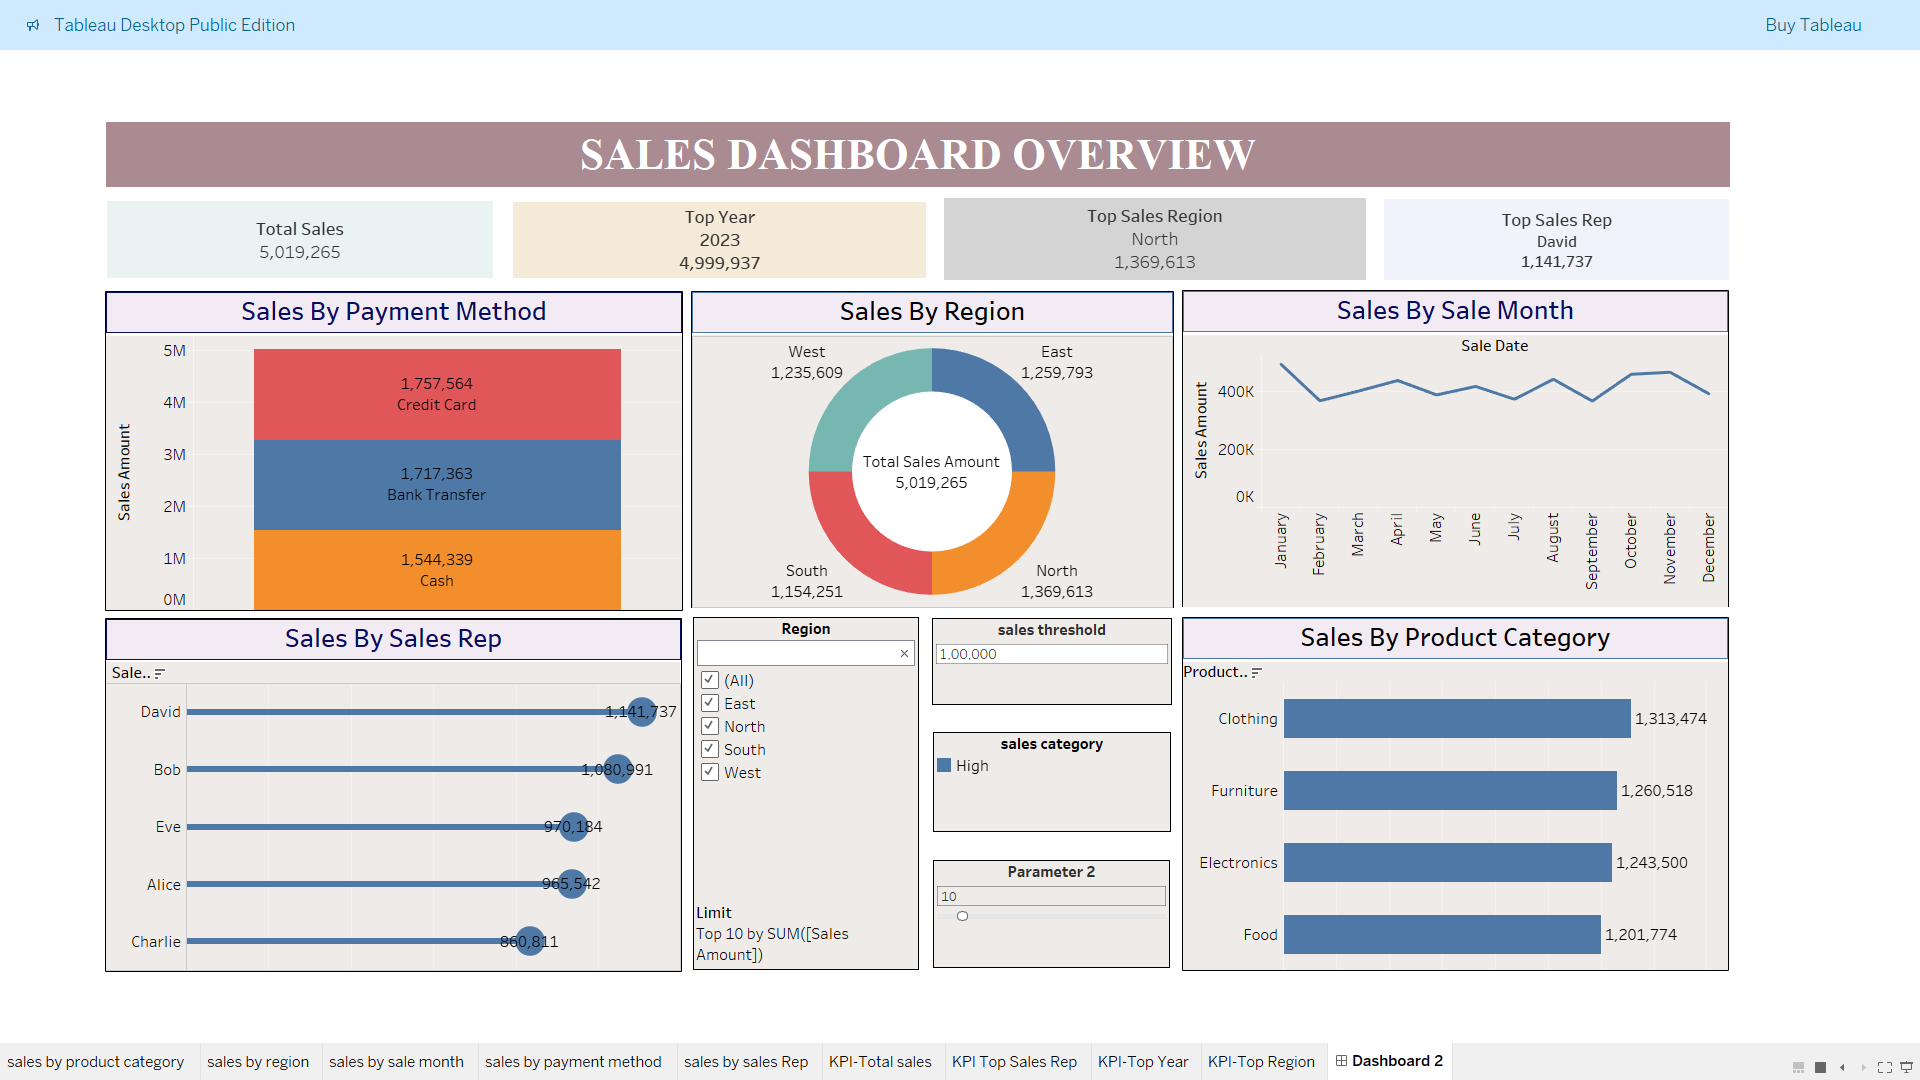

The dashboard page shown, as its layout file describes it:
{"tool":"tableau","page":{"name":"Dashboard 2","canvas":[1000,1000],"units":"permille","ordinal":1},"visuals":[{"type":"text","box":[2.3,5.1,946.5,80.7]},{"type":"worksheet","title":"KPI-Top Region","mark":"Text","box":[489.5,93.5,247.7,99.9]},{"type":"worksheet","title":"KPI Top Sales Rep","mark":"Text","box":[745.4,94.8,202.9,98.6]},{"type":"worksheet","title":"KPI-Total sales","mark":"Text","box":[2.9,96,226.7,94.8]},{"type":"worksheet","title":"KPI-Top Year","mark":"Text","box":[239,97.3,242.4,93.5]},{"type":"worksheet","title":"sales by payment method","mark":"Bar","rows":["Sales_Amount"],"box":[1.7,195.9,338.4,381.6]},{"type":"worksheet","title":"sales by region","mark":"Pie","rows":["Calculation_51791419760717826","Calculation_51791419760717826"],"box":[342.4,195.9,283.1,384.1]},{"type":"worksheet","title":"sales by sale month","mark":"Line","rows":["Sales_Amount"],"cols":["Sale_Date"],"box":[627.9,195.9,320.4,381.6]},{"type":"worksheet","title":"sales by sales Rep","mark":"Automatic","rows":["Sales_Rep"],"cols":["Sales_Amount","Sales_Amount"],"box":[1.7,581.3,338.4,416.1]},{"type":"worksheet","title":"sales by product category","mark":"Bar","rows":["Product_Category"],"cols":["Sales_Amount"],"box":[627.9,581.3,320.4,414.9]},{"type":"filter","title":"sales by product category","param":"[federated.1s28s8d06iz8n117ik5w81phr82c].[none:Region:nk]","box":[341.3,583.9,139,411]},{"type":"parameter","param":"[Parameters].[Parameter 1]","box":[482.6,585.1,141.9,102.4]},{"type":"legend","title":"sales by product category","param":"[federated.1s28s8d06iz8n117ik5w81phr82c].[usr:Calculation_2022960680077242371:nk","box":[483.1,714.5,140.7,120.4]},{"type":"parameter","param":"[Parameters].[Parameter 2]","box":[483.1,863,140.1,130.6]}]}

Visuals, with their boxes on the dashboard's canvas, which has no fixed pixel size, in thousandths of its width and height (x1, y1, x2, y2). These are canvas units, not pixel positions in the 1920x1080 screenshot, which may show the page scaled, cropped or inside an application window:
text: (2, 5, 949, 86)
"KPI-Top Region" worksheet (Text marks): (490, 94, 737, 193)
"KPI Top Sales Rep" worksheet (Text marks): (745, 95, 948, 193)
"KPI-Total sales" worksheet (Text marks): (3, 96, 230, 191)
"KPI-Top Year" worksheet (Text marks): (239, 97, 481, 191)
"sales by payment method" worksheet (Bar marks): (2, 196, 340, 578)
"sales by region" worksheet (Pie marks): (342, 196, 626, 580)
"sales by sale month" worksheet (Line marks): (628, 196, 948, 578)
"sales by sales Rep" worksheet: (2, 581, 340, 997)
"sales by product category" worksheet (Bar marks): (628, 581, 948, 996)
"sales by product category" filter: (341, 584, 480, 995)
parameter: (483, 585, 624, 688)
"sales by product category" legend: (483, 714, 624, 835)
parameter: (483, 863, 623, 994)
